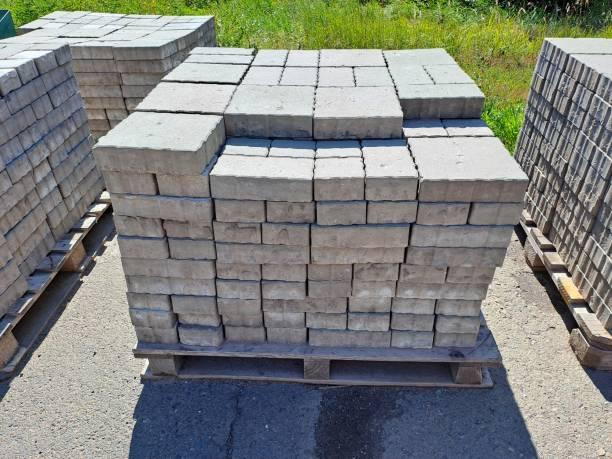Bricks: (92, 133, 207, 175), (210, 155, 314, 201), (108, 122, 219, 164), (314, 87, 402, 139), (122, 112, 226, 146), (136, 82, 238, 114), (395, 84, 484, 119), (224, 84, 279, 136), (110, 195, 212, 219), (270, 86, 316, 138), (404, 247, 507, 268), (412, 226, 510, 248), (314, 158, 365, 200), (216, 243, 311, 265), (311, 226, 410, 247), (121, 257, 215, 279), (124, 276, 216, 297), (365, 165, 417, 201), (395, 282, 489, 301), (162, 63, 249, 83), (310, 246, 404, 263), (309, 330, 392, 349), (418, 179, 476, 203), (383, 48, 456, 67), (263, 298, 347, 314), (102, 171, 155, 196), (156, 174, 210, 198), (417, 204, 472, 226), (317, 202, 368, 225), (363, 141, 414, 164), (319, 49, 387, 66), (266, 201, 316, 224), (214, 201, 265, 223), (117, 237, 168, 259), (368, 201, 417, 223), (423, 64, 475, 84), (113, 218, 164, 238), (216, 261, 262, 283), (263, 225, 310, 246), (214, 223, 261, 244), (165, 221, 213, 241), (128, 309, 173, 330), (442, 118, 494, 136), (167, 240, 215, 259), (223, 137, 271, 156), (389, 65, 434, 85), (399, 265, 448, 283), (267, 141, 316, 159), (126, 292, 170, 312), (262, 311, 306, 331), (240, 66, 284, 86), (435, 315, 481, 334), (446, 268, 497, 285), (390, 298, 437, 316), (216, 280, 260, 299), (354, 67, 395, 87), (172, 296, 217, 314), (260, 265, 307, 282), (402, 120, 449, 137), (316, 139, 360, 157), (435, 300, 481, 317), (389, 314, 435, 331), (178, 328, 219, 347), (348, 314, 391, 332), (261, 283, 306, 300), (351, 281, 396, 298), (390, 331, 432, 349), (353, 265, 400, 281), (498, 179, 529, 203), (279, 67, 318, 86), (318, 67, 355, 87), (308, 265, 354, 281), (468, 203, 500, 226), (134, 327, 177, 344), (350, 296, 391, 313), (266, 328, 307, 345), (306, 313, 347, 330), (225, 327, 267, 343), (250, 49, 289, 66), (183, 55, 254, 64), (309, 282, 351, 297), (435, 332, 477, 347), (473, 181, 503, 202), (218, 300, 260, 314), (285, 50, 319, 67), (496, 204, 524, 224), (188, 47, 254, 55), (179, 313, 219, 326), (222, 315, 261, 328)
